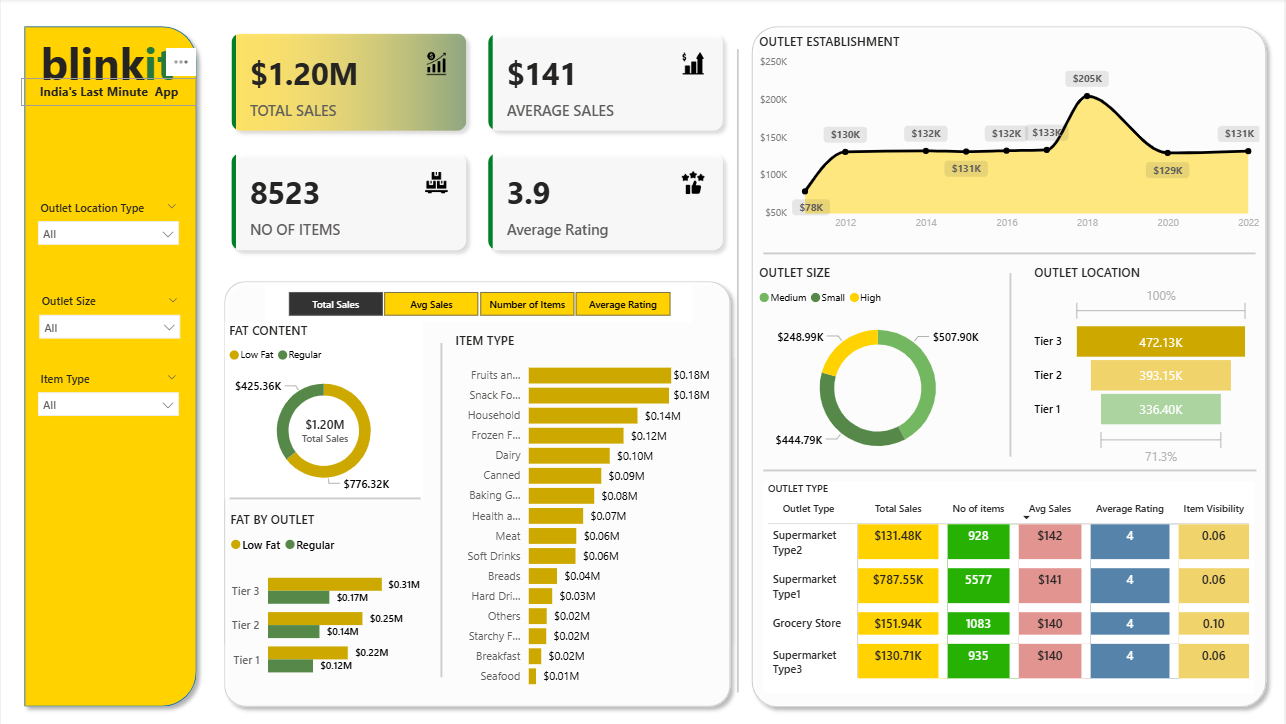

The page's visual inventory and layout, read from the dashboard file:
{"tool":"powerbi","page":{"name":"Page 1","canvas":[1400,800],"ordinal":0},"visuals":[{"type":"shape","box":[16,22,206,760],"z":0},{"type":"textbox","box":[30.4,33.1,171.9,75.8],"z":1000},{"type":"textbox","box":[22.4,87.9,192.1,30],"z":2000},{"type":"cardVisual","fields":{"Data":["BlinkIT Grocery Data.Total Sales","BlinkIT Grocery Data.Avg Sales","BlinkIT Grocery Data.Number of Items","BlinkIT Grocery Data.Average Rating"]},"box":[234,22,570,270],"z":3000},{"type":"shape","box":[234,300,570,482],"z":4000},{"type":"donutChart","title":"FAT CONTENT","fields":{"Y":["BlinkIT Grocery Data.Total Sales"],"Category":["BlinkIT Grocery Data.Item Fat Content"]},"box":[244.5,353.6,216.4,192.7],"z":5000},{"type":"slicer","fields":{"Values":["Metrices.Metrices"]},"box":[288,314,466,40],"z":6000},{"type":"cardVisual","fields":{"Data":["BlinkIT Grocery Data.Total Sales"]},"box":[310.9,439.1,85.5,60],"z":7000},{"type":"clusteredBarChart","title":"FAT BY OUTLET","fields":{"Y":["BlinkIT Grocery Data.Total Sales"],"Category":["BlinkIT Grocery Data.Outlet Location Type"],"Series":["BlinkIT Grocery Data.Item Fat Content"]},"box":[245.4,559,216.8,197.7],"z":8000},{"type":"shape","box":[250,526.4,208.2,39.1],"z":9000},{"type":"shape","box":[376.4,376.4,208.2,364.5],"z":10000},{"type":"barChart","title":"ITEM TYPE","fields":{"Y":["BlinkIT Grocery Data.Total Sales"],"Category":["BlinkIT Grocery Data.Item Type"]},"box":[491.4,364.3,287.1,398.6],"z":11000},{"type":"shape","box":[809.5,22.1,579.1,760.6],"z":12000},{"type":"lineChart","title":"OUTLET ESTABLISHMENT","fields":{"Y":["BlinkIT Grocery Data.Total Sales"],"Category":["BlinkIT Grocery Data.Outlet Establishment Year"]},"box":[822.1,45,554.9,223.6],"z":13000},{"type":"shape","box":[700,55.7,208.6,701.4],"z":14000},{"type":"shape","box":[831.6,149.9,536.5,257.2],"z":15000},{"type":"donutChart","title":"OUTLET SIZE","fields":{"Y":["BlinkIT Grocery Data.Total Sales"],"Category":["BlinkIT Grocery Data.Outlet Size"]},"box":[822.5,290,268.8,225],"z":16000},{"type":"shape","box":[996.2,300,208.8,200],"z":17000},{"type":"funnel","title":"OUTLET LOCATION","fields":{"Category":["BlinkIT Grocery Data.Outlet Location Type"],"Y":["Sum(BlinkIT Grocery Data.Sales)"]},"box":[1122.5,290,245,225],"z":18000},{"type":"shape","box":[831.2,387.5,537.5,256.2],"z":19000},{"type":"pivotTable","title":"OUTLET TYPE","fields":{"Rows":["BlinkIT Grocery Data.Outlet Type"],"Values":["BlinkIT Grocery Data.Total Sales","BlinkIT Grocery Data.Number of Items","BlinkIT Grocery Data.Avg Sales","BlinkIT Grocery Data.Average Rating","Avg(BlinkIT Grocery Data.Item Visibility)"]},"box":[831.2,527.5,535,230],"z":20000},{"type":"slicer","fields":{"Values":["BlinkIT Grocery Data.Outlet Location Type"]},"box":[30,216,174,74],"z":21000},{"type":"slicer","fields":{"Values":["BlinkIT Grocery Data.Outlet Size"]},"box":[32,318,174,74],"z":22000},{"type":"slicer","fields":{"Values":["BlinkIT Grocery Data.Item Type"]},"box":[30,402,174,74],"z":23000}]}

Visuals, with their boxes in screenshot pixels (x1, y1, x2, y2), scaled from the page's 1400x800 canvas onto the 1286x724 screenshot:
shape: left=15, top=20, right=204, bottom=708
textbox: left=28, top=30, right=186, bottom=99
textbox: left=21, top=80, right=197, bottom=107
cardVisual - BlinkIT Grocery Data.Total Sales x BlinkIT Grocery Data.Avg Sales: left=215, top=20, right=739, bottom=264
shape: left=215, top=272, right=739, bottom=708
"FAT CONTENT" donutChart: left=225, top=320, right=423, bottom=494
slicer - Metrices.Metrices: left=265, top=284, right=693, bottom=320
cardVisual - BlinkIT Grocery Data.Total Sales: left=286, top=397, right=364, bottom=452
"FAT BY OUTLET" clusteredBarChart: left=225, top=506, right=425, bottom=685
shape: left=230, top=476, right=421, bottom=512
shape: left=346, top=341, right=537, bottom=671
"ITEM TYPE" barChart: left=451, top=330, right=715, bottom=690
shape: left=744, top=20, right=1276, bottom=708
"OUTLET ESTABLISHMENT" lineChart: left=755, top=41, right=1265, bottom=243
shape: left=643, top=50, right=835, bottom=685
shape: left=764, top=136, right=1257, bottom=368
"OUTLET SIZE" donutChart: left=756, top=262, right=1002, bottom=466
shape: left=915, top=272, right=1107, bottom=452
"OUTLET LOCATION" funnel: left=1031, top=262, right=1256, bottom=466
shape: left=764, top=351, right=1257, bottom=583
"OUTLET TYPE" pivotTable: left=764, top=477, right=1255, bottom=686
slicer - BlinkIT Grocery Data.Outlet Location Type: left=28, top=195, right=187, bottom=262
slicer - BlinkIT Grocery Data.Outlet Size: left=29, top=288, right=189, bottom=355
slicer - BlinkIT Grocery Data.Item Type: left=28, top=364, right=187, bottom=431
